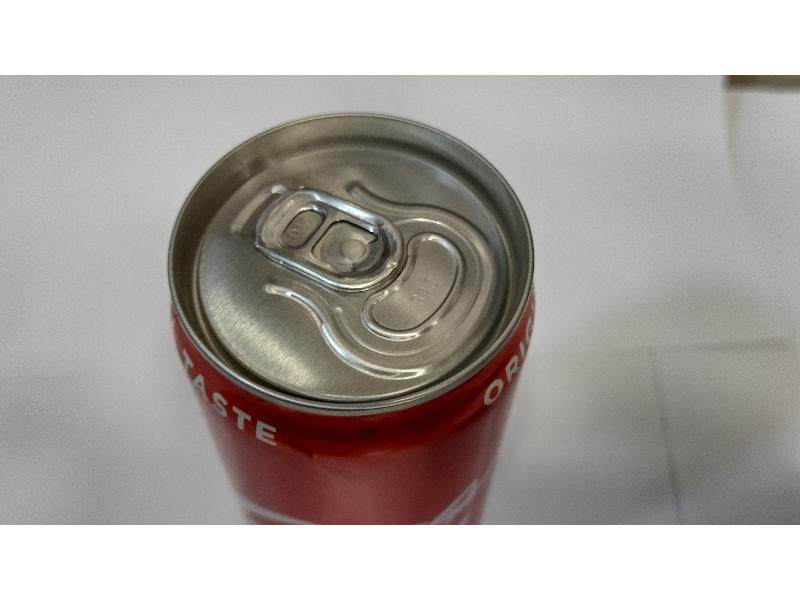can: (151, 106, 543, 515)
